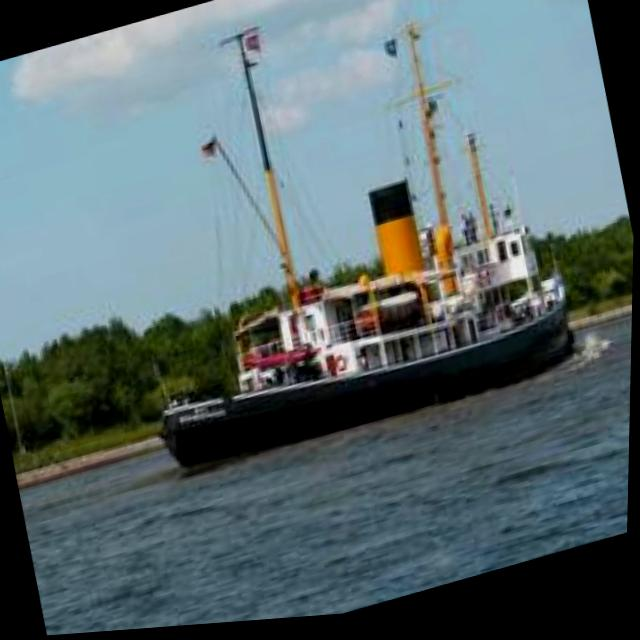ship2: (162, 29, 579, 475)
